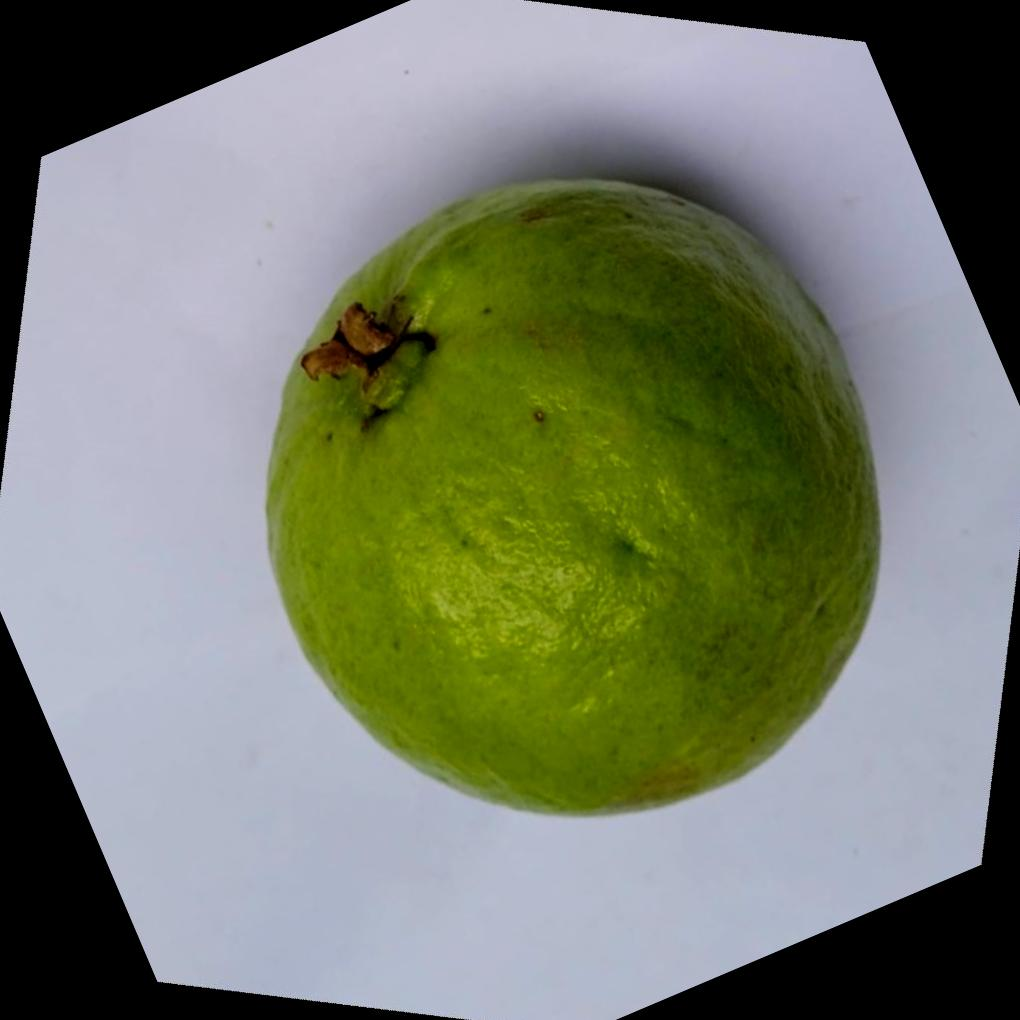FreshGuava: (261, 171, 882, 814)
